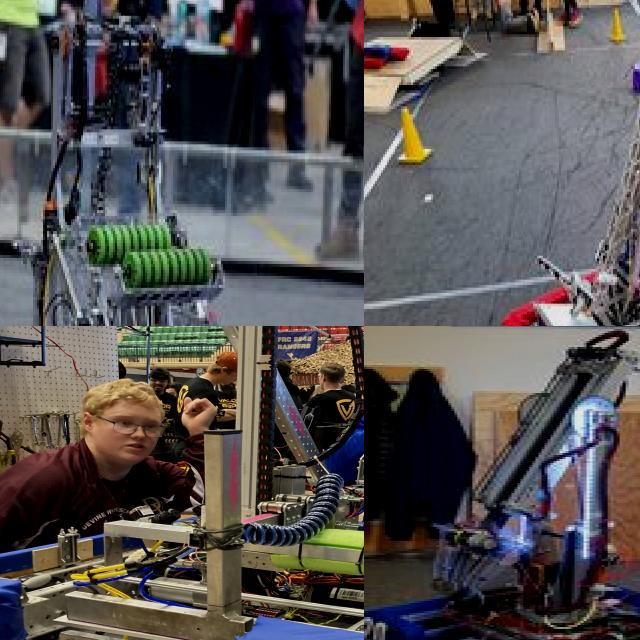FRC-Robots: (0, 326, 364, 640), (0, 0, 307, 326), (380, 326, 640, 640), (497, 1, 640, 326)
